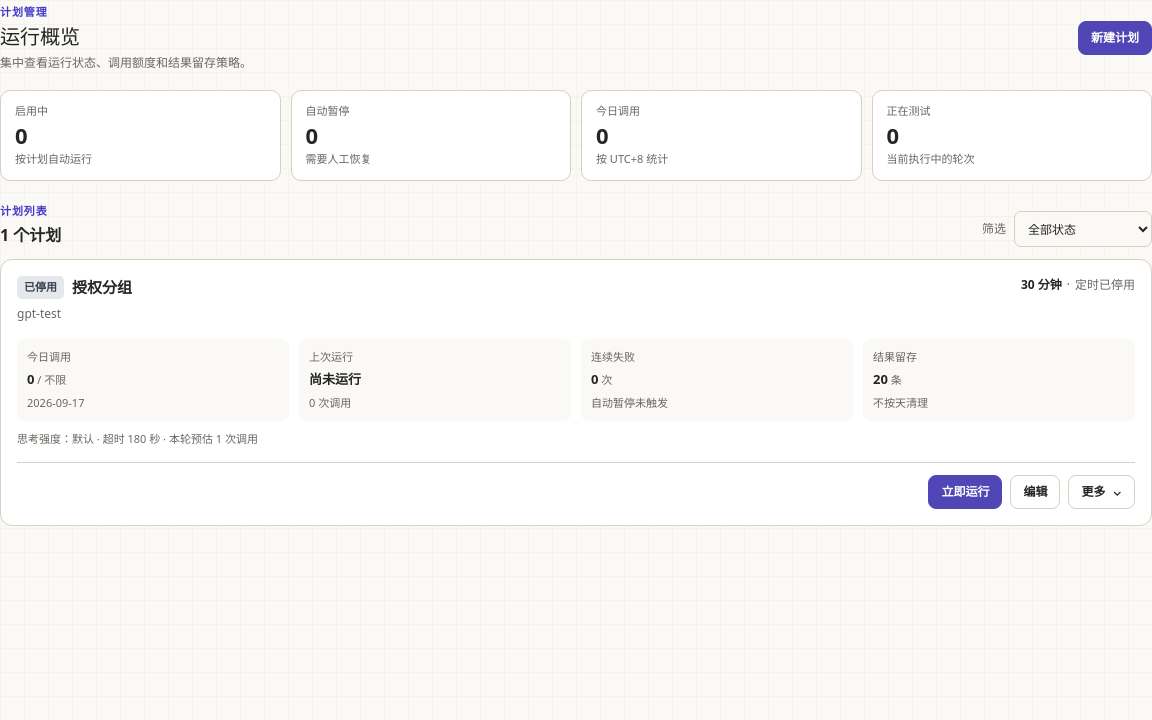
Test case: PelicanPlansPanel › ignores stale group model responses and clears the previous selection immediately
Step 1. Click the button "新建计划" → (1115, 38), box [1078, 21, 1151, 55]
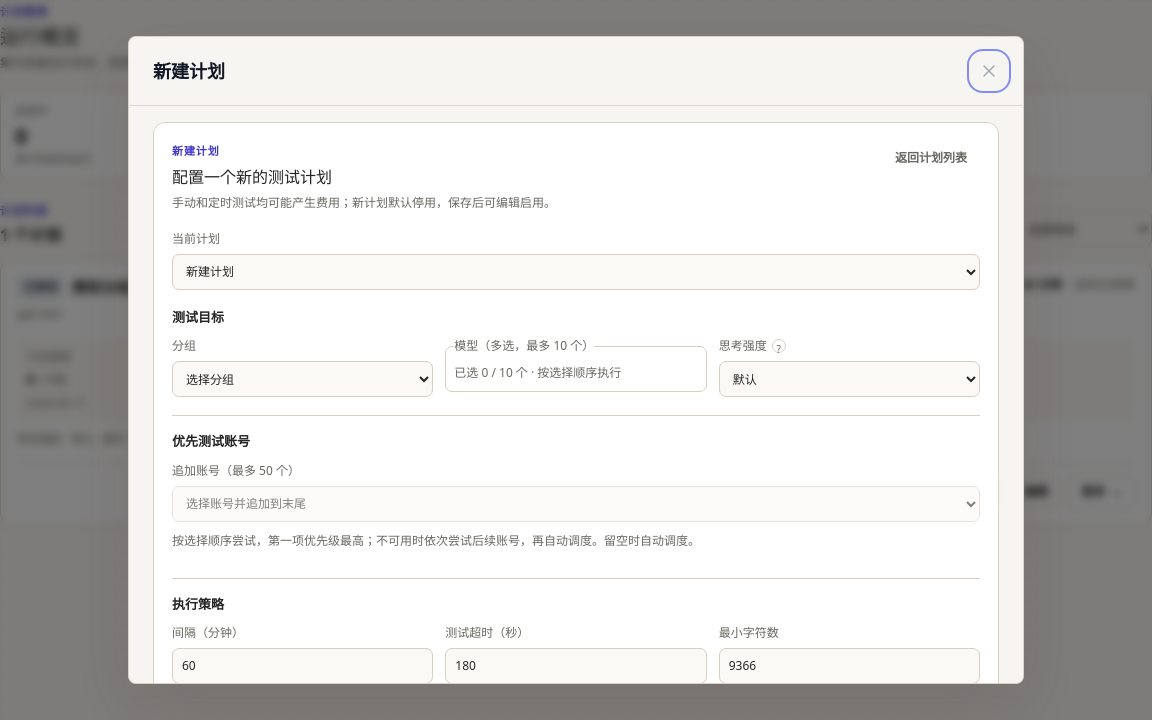
Step 2. Select "授权分组" in the dropdown named "分组" → (303, 379), box [172, 361, 433, 397]
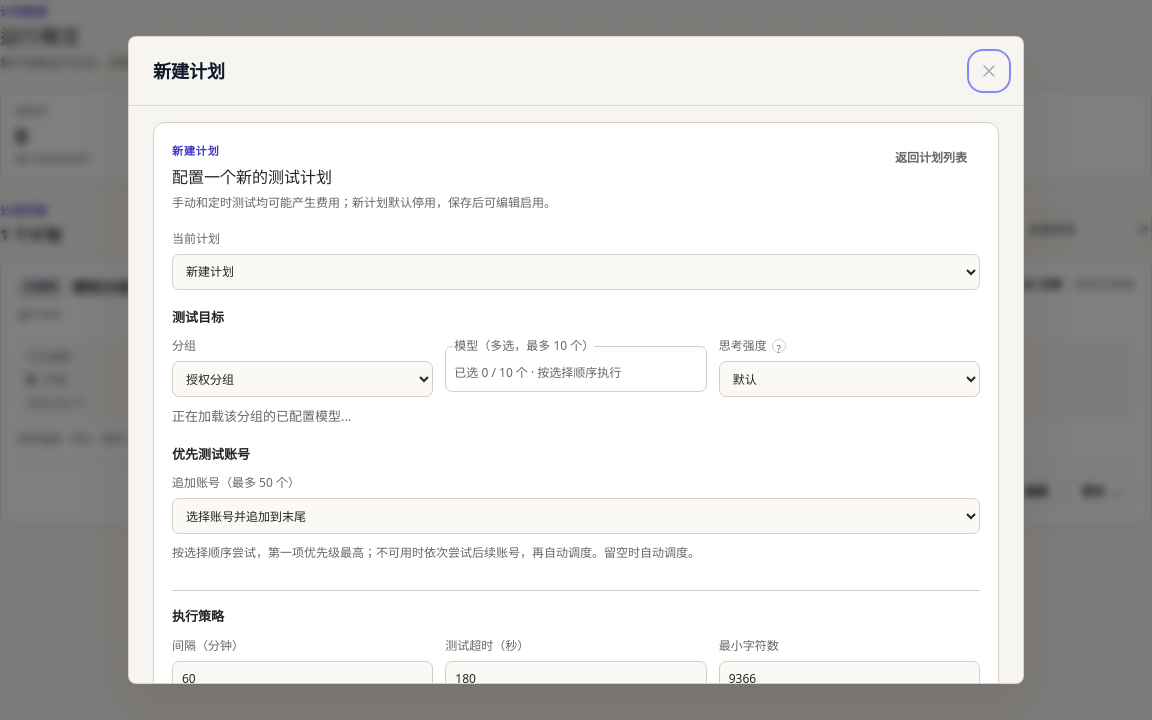
Step 3. Select "备用分组" in the dropdown named "分组" → (303, 379), box [172, 361, 433, 397]
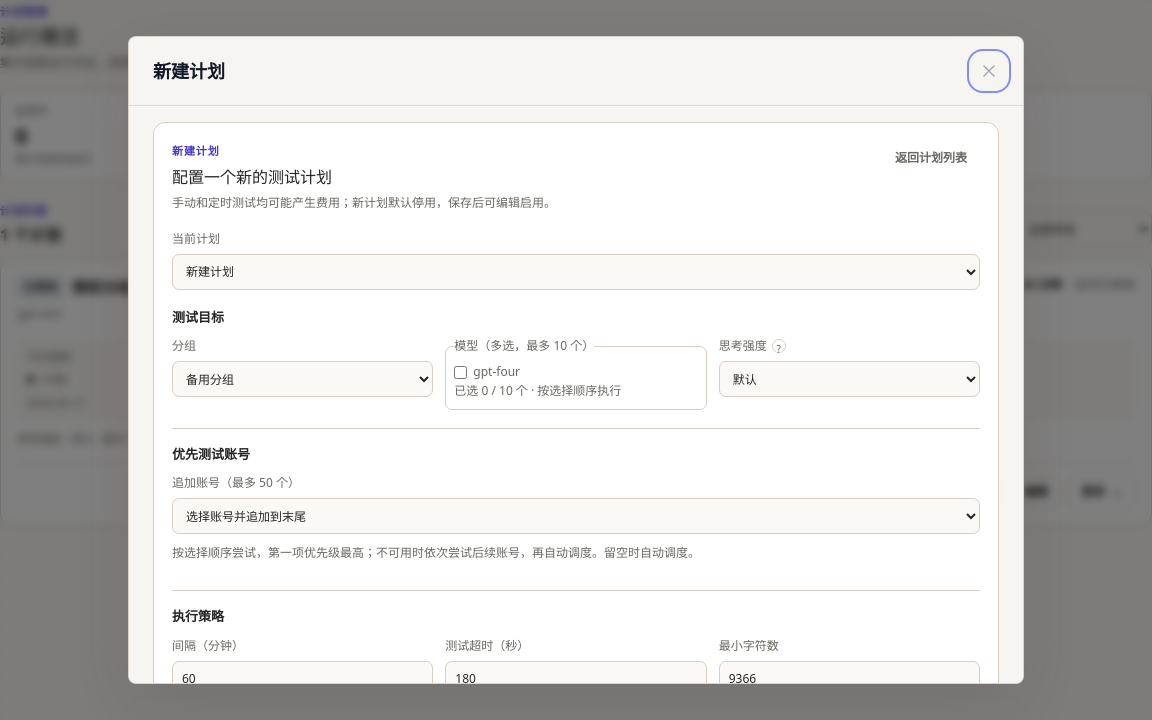
Now the text "gpt-four" is shown, box [454, 363, 520, 380]
